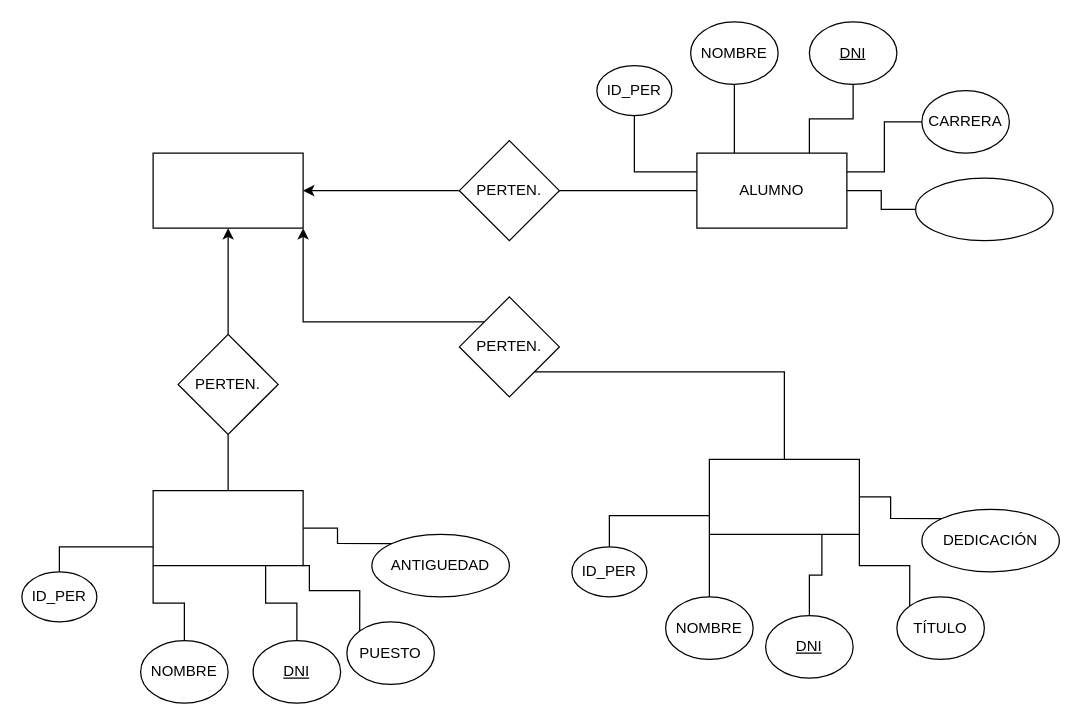
Some shapes in this 1081 by 725 pixel diagram are drawn without their labels. Each missing label, with the box of its shape:
ADMINISTRATIVO: (152, 489, 303, 566)
AÑO_INGRESO: (914, 177, 1053, 241)
FACULTAD: (152, 152, 303, 228)
PROFESOR: (708, 458, 859, 534)
